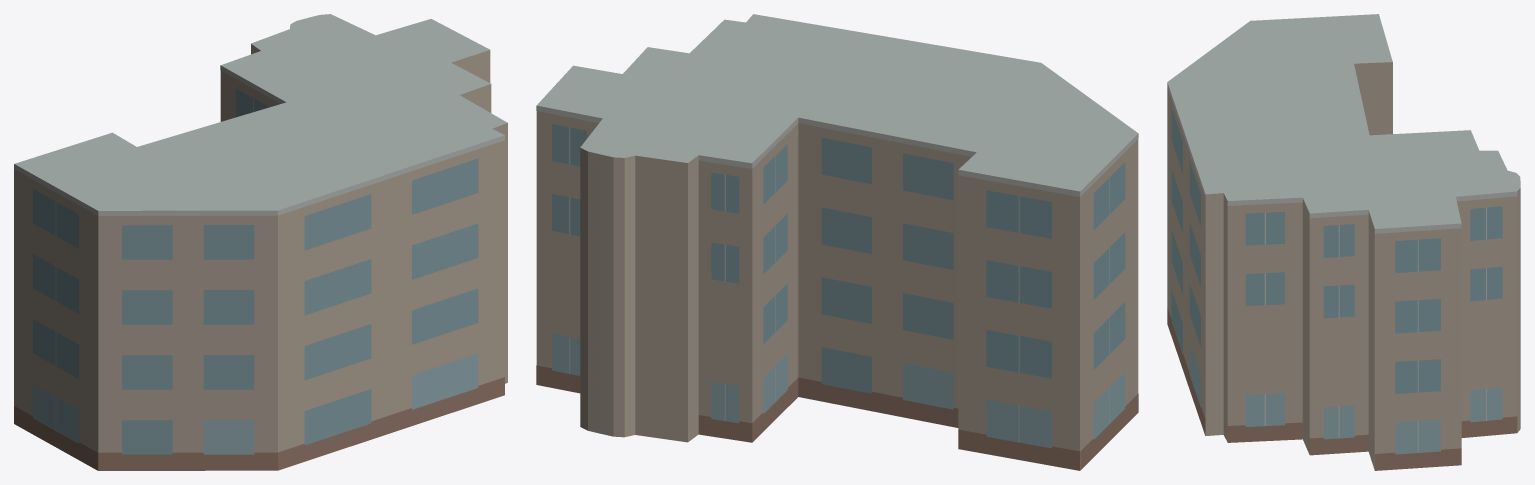
Rendered from survey-upis-32576798.glb.
The picture shows the model from 3 angles, left to right: view 1: azimuth 30°, elevation 25°; view 2: azimuth 150°, elevation 25°; view 3: azimuth 270°, elevation 25°; orthographic projection. The views are drawn at different scales.
Parts seen in each view (by area): view 1: survey-upis-32576798.tmp; view 2: survey-upis-32576798.tmp; view 3: survey-upis-32576798.tmp.
Boxes of the visible parts, <box> form: survey-upis-32576798.tmp: <box>14,14,507,470</box>; survey-upis-32576798.tmp: <box>536,14,1138,470</box>; survey-upis-32576798.tmp: <box>1167,14,1520,470</box>.
Bounding box in the file's own units: 23.67 × 12.4 × 16.43.
